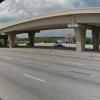Bridge: (4, 6, 91, 52)
